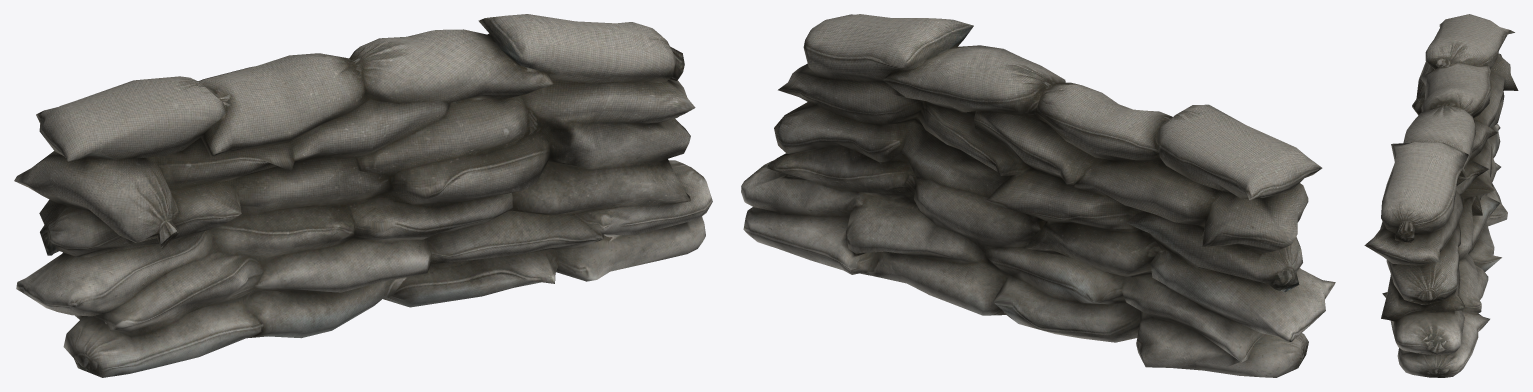
File: sandbags_pile.glb
3 renders of one model, left to right at view 1: azimuth 30°, elevation 25°; view 2: azimuth 150°, elevation 25°; view 3: azimuth 270°, elevation 25°, orthographic. The views are drawn at different scales.
Visible parts, largest first — view 1: model_lod0; view 2: model_lod0; view 3: model_lod0.
Boxes of the visible parts, x1,y1,x2,y2 form: model_lod0: (14,14,712,377); model_lod0: (741,14,1335,377); model_lod0: (1364,14,1518,377).
Size of what is drawn, in the model's own units: 3.25 by 1.29 by 0.9854.
Materials: 1 (1 with a texture image).
